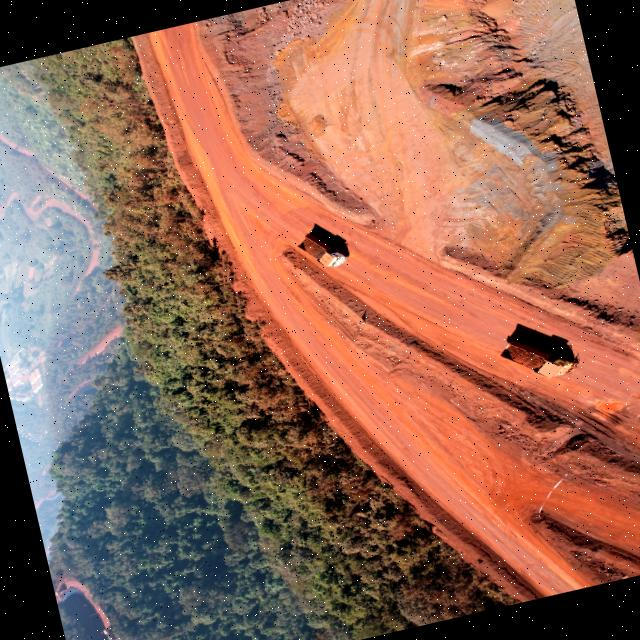Dumper truck: (497, 329, 574, 387), (297, 226, 351, 275), (101, 624, 115, 640), (54, 585, 66, 595)
person: (356, 320, 366, 326)
